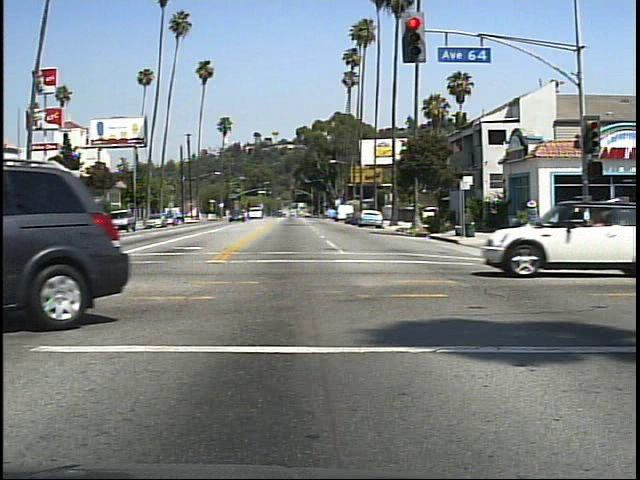person: (522, 195, 549, 230)
